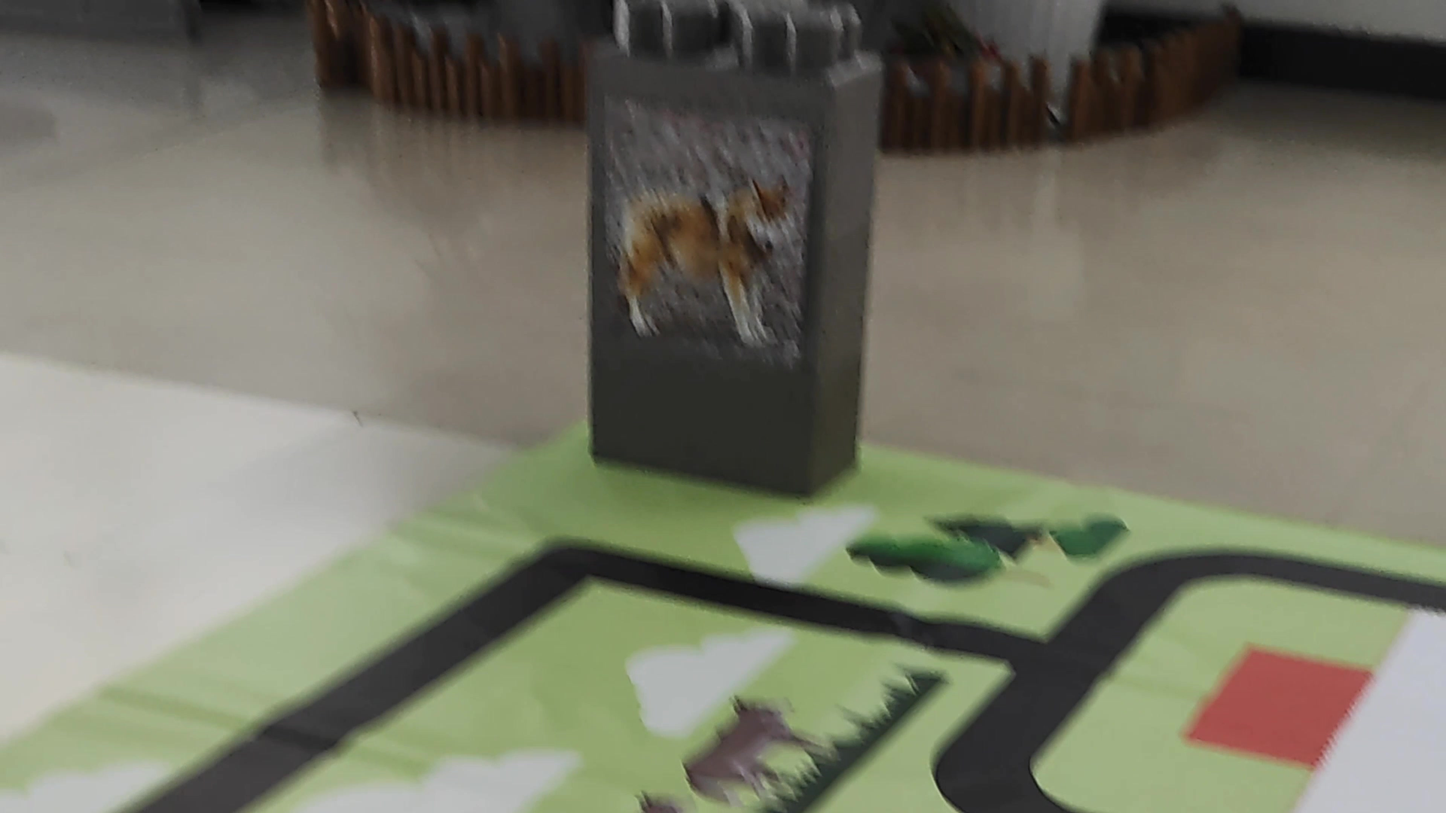wolf: (581, 154, 805, 372)
